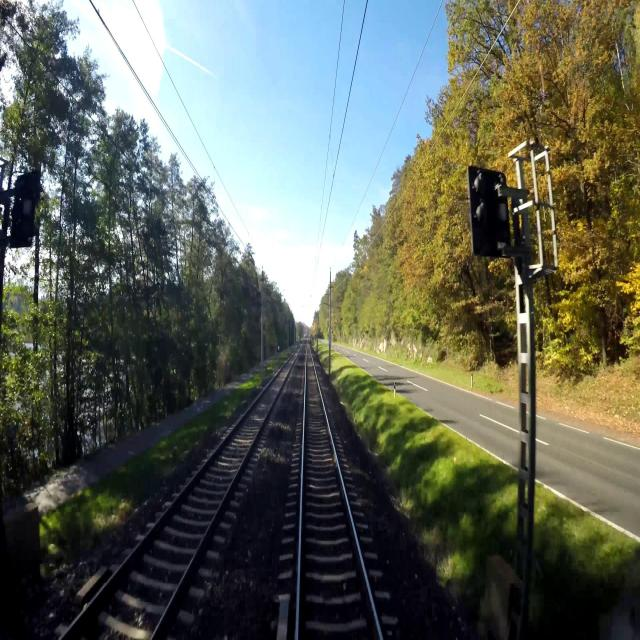rail-track: (65, 354, 295, 639), (299, 348, 379, 639)
